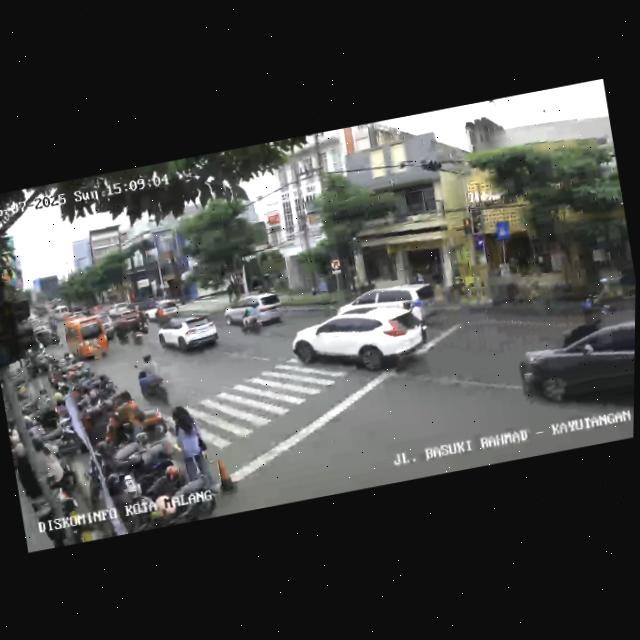car: (514, 308, 635, 428), (286, 293, 434, 388), (331, 275, 442, 343), (155, 309, 221, 361), (221, 286, 288, 333), (62, 311, 110, 364), (142, 297, 180, 323), (97, 313, 116, 342), (107, 301, 131, 317), (53, 304, 70, 320)
motorcycle: (130, 349, 172, 406), (234, 300, 265, 340), (111, 318, 130, 346), (129, 317, 144, 345), (135, 310, 150, 336), (152, 304, 170, 322)
